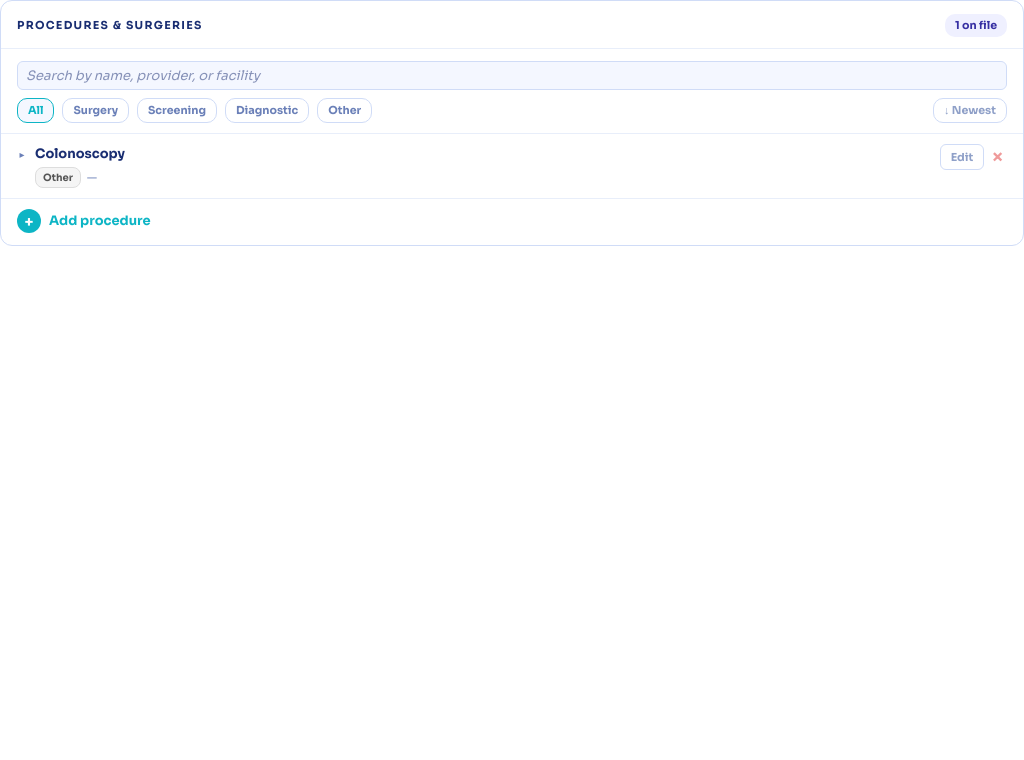
it: ProcedureList — edit form › saving edit updates the procedure in the store
Click the button "Edit".
click(962, 157)  # box [940,144,984,170]
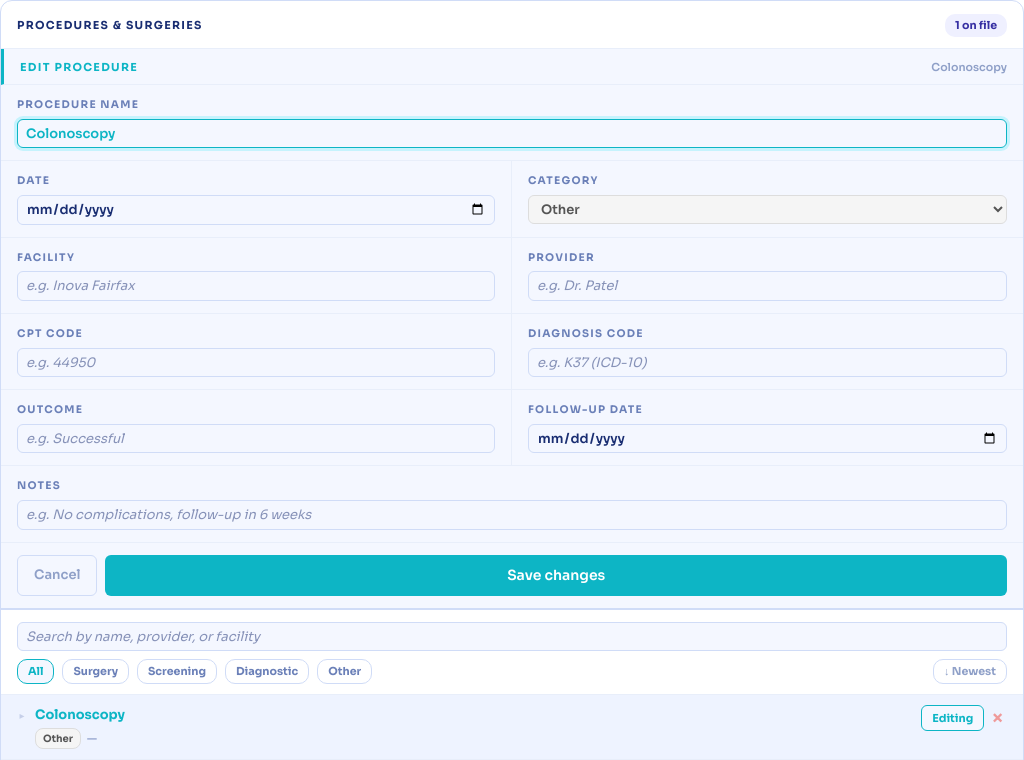
Replace the text in the field labelled "Procedure Name" with "Colonoscopy (revised)" at (512, 134), box [17,119,1007,148]
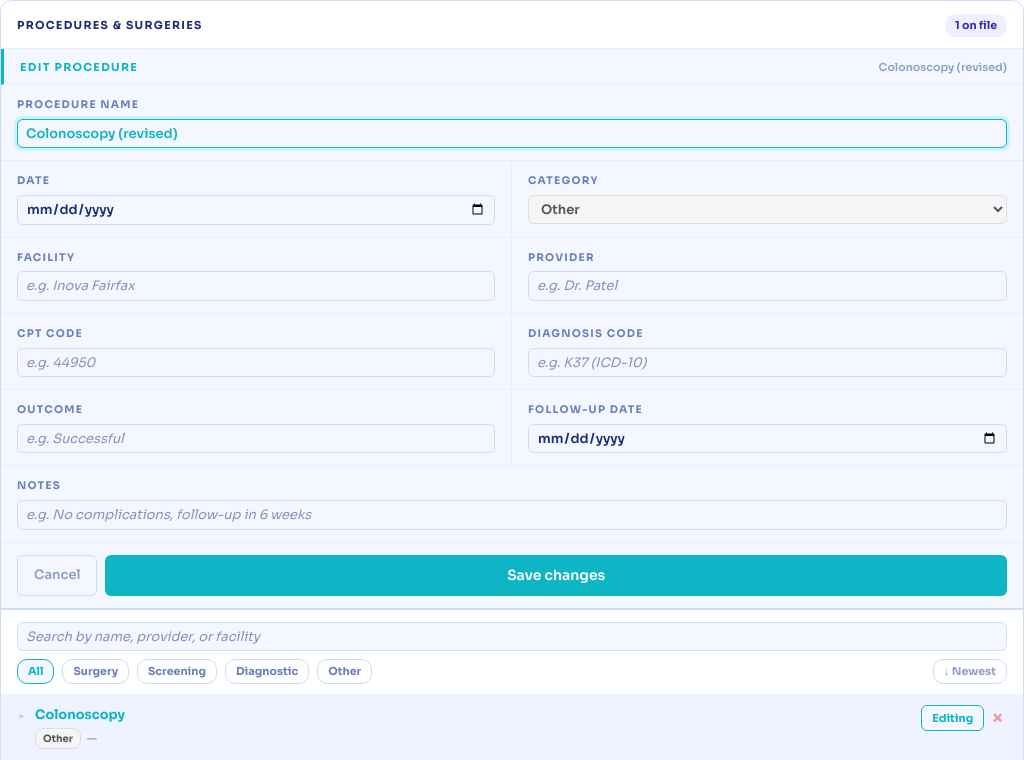
Click the button "Save changes".
click(556, 575)  # box [105,554,1007,596]
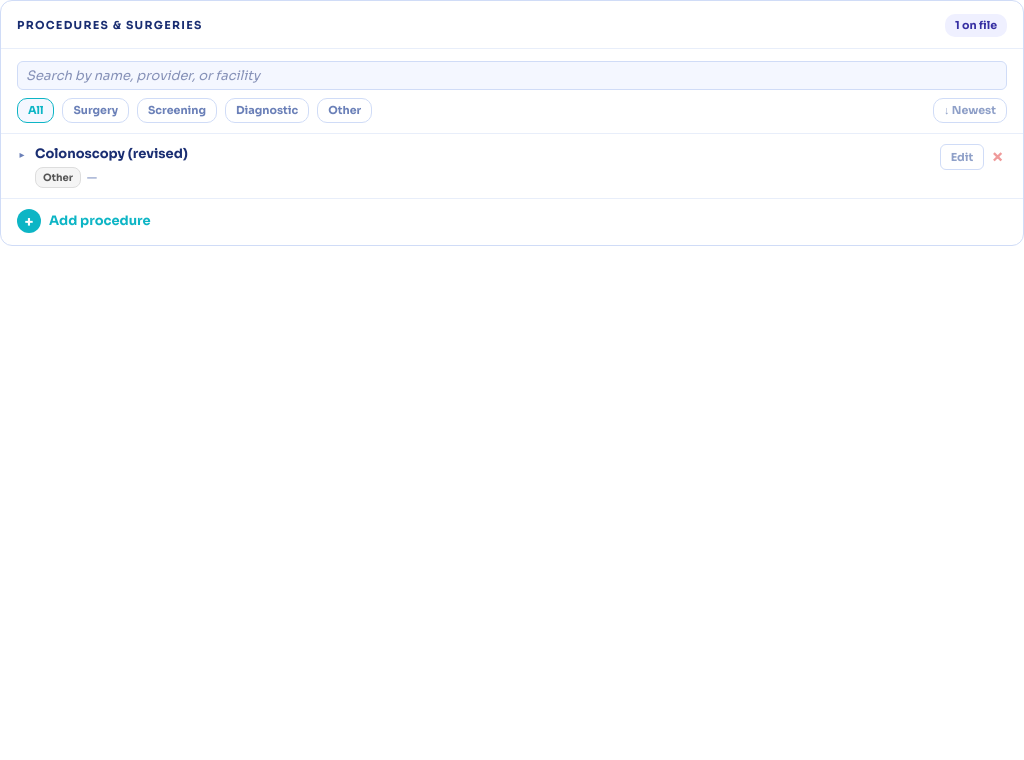
expect the text "Colonoscopy (revised)" is shown: met, box [35,144,188,162]
